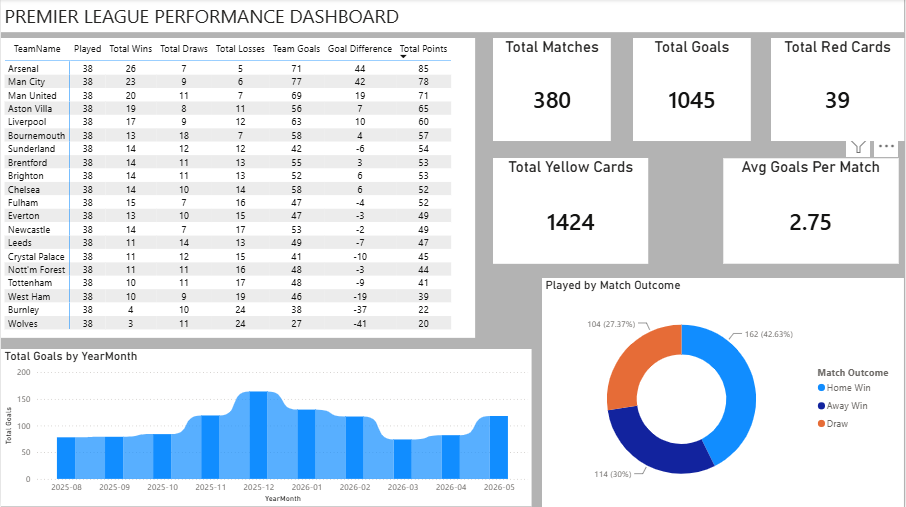

What the dashboard file says about the page in this screenshot:
{"tool":"powerbi","page":{"name":"Executive  Overview","canvas":[1280,720],"ordinal":0},"visuals":[{"type":"textbox","box":[0,0,1279.8,46.8],"z":0},{"type":"cardVisual","title":"Total Matches","fields":{"Data":["_AllMeasure.Total Matches"]},"box":[697.9,55.8,167.3,145.9],"z":1000},{"type":"cardVisual","title":"Total Goals","fields":{"Data":["_AllMeasure.Total Goals"]},"box":[895.3,55.8,167.3,145.9],"z":2000},{"type":"cardVisual","title":"Avg Goals Per Match","fields":{"Data":["_AllMeasure.Avg Goals Per Match"]},"box":[1024,226,248.8,150.2],"z":3000},{"type":"cardVisual","title":"Total Yellow Cards","fields":{"Data":["_AllMeasure.Total Yellow Cards"]},"box":[697.9,226,220.2,150.2],"z":4000},{"type":"cardVisual","title":"Total Red Cards","fields":{"Data":["_AllMeasure.Total Red Cards"]},"box":[1091.2,55.8,188.8,145.9],"z":5000},{"type":"pivotTable","fields":{"Rows":["DimTeams.TeamName"],"Values":["_AllMeasure.Total Matches","_AllMeasure.Total Wins","_AllMeasure.Total Draws","_AllMeasure.Total Losses","_AllMeasure.Team Goals","_AllMeasure.Goal Difference","_AllMeasure.Total Points"]},"box":[0,55.8,672.2,424.8],"z":6000},{"type":"donutChart","title":"Played by Match Outcome","fields":{"Category":["FactMatches.Match Outcome"],"Y":["_AllMeasure.Total Matches"]},"box":[766.6,394.7,513.4,324.6],"z":7000},{"type":"ribbonChart","fields":{"Y":["_AllMeasure.Total Goals"],"Category":["DimCalendar.YearMonth"]},"box":[0,496.3,752.3,223.1],"z":8000}]}

Visuals, with their boxes in screenshot pixels (x1, y1, x2, y2), scaled from the page's 1280x720 canvas onto the 906x507 screenshot:
textbox: bbox=[0, 0, 905, 33]
"Total Matches" cardVisual: bbox=[494, 39, 612, 142]
"Total Goals" cardVisual: bbox=[634, 39, 752, 142]
"Avg Goals Per Match" cardVisual: bbox=[725, 159, 901, 265]
"Total Yellow Cards" cardVisual: bbox=[494, 159, 650, 265]
"Total Red Cards" cardVisual: bbox=[772, 39, 905, 142]
pivotTable - DimTeams.TeamName x _AllMeasure.Total Matches: bbox=[0, 39, 476, 338]
"Played by Match Outcome" donutChart: bbox=[543, 278, 905, 506]
ribbonChart - _AllMeasure.Total Goals x DimCalendar.YearMonth: bbox=[0, 349, 532, 506]
